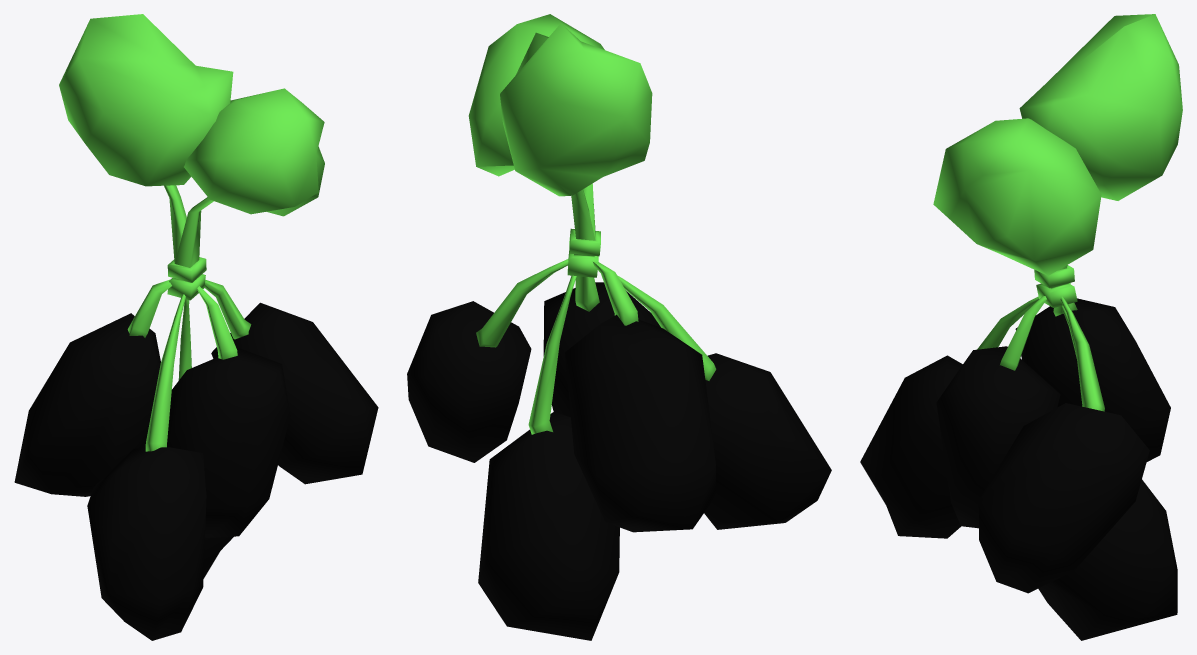
File: VeggiePotato.fbx
3 renders of one model, left to right at view 1: azimuth 30°, elevation 25°; view 2: azimuth 150°, elevation 25°; view 3: azimuth 270°, elevation 25°, orthographic. The views are drawn at different scales.
Parts seen in each view (by area): view 1: Potato; view 2: Potato; view 3: Potato.
Boxes of the visible parts, x1=… form: Potato: x1=14, y1=14, x2=378, y2=640; Potato: x1=407, y1=14, x2=831, y2=640; Potato: x1=860, y1=14, x2=1182, y2=640.
Bounding box in the file's own units: 1.53 × 3.18 × 1.87.
